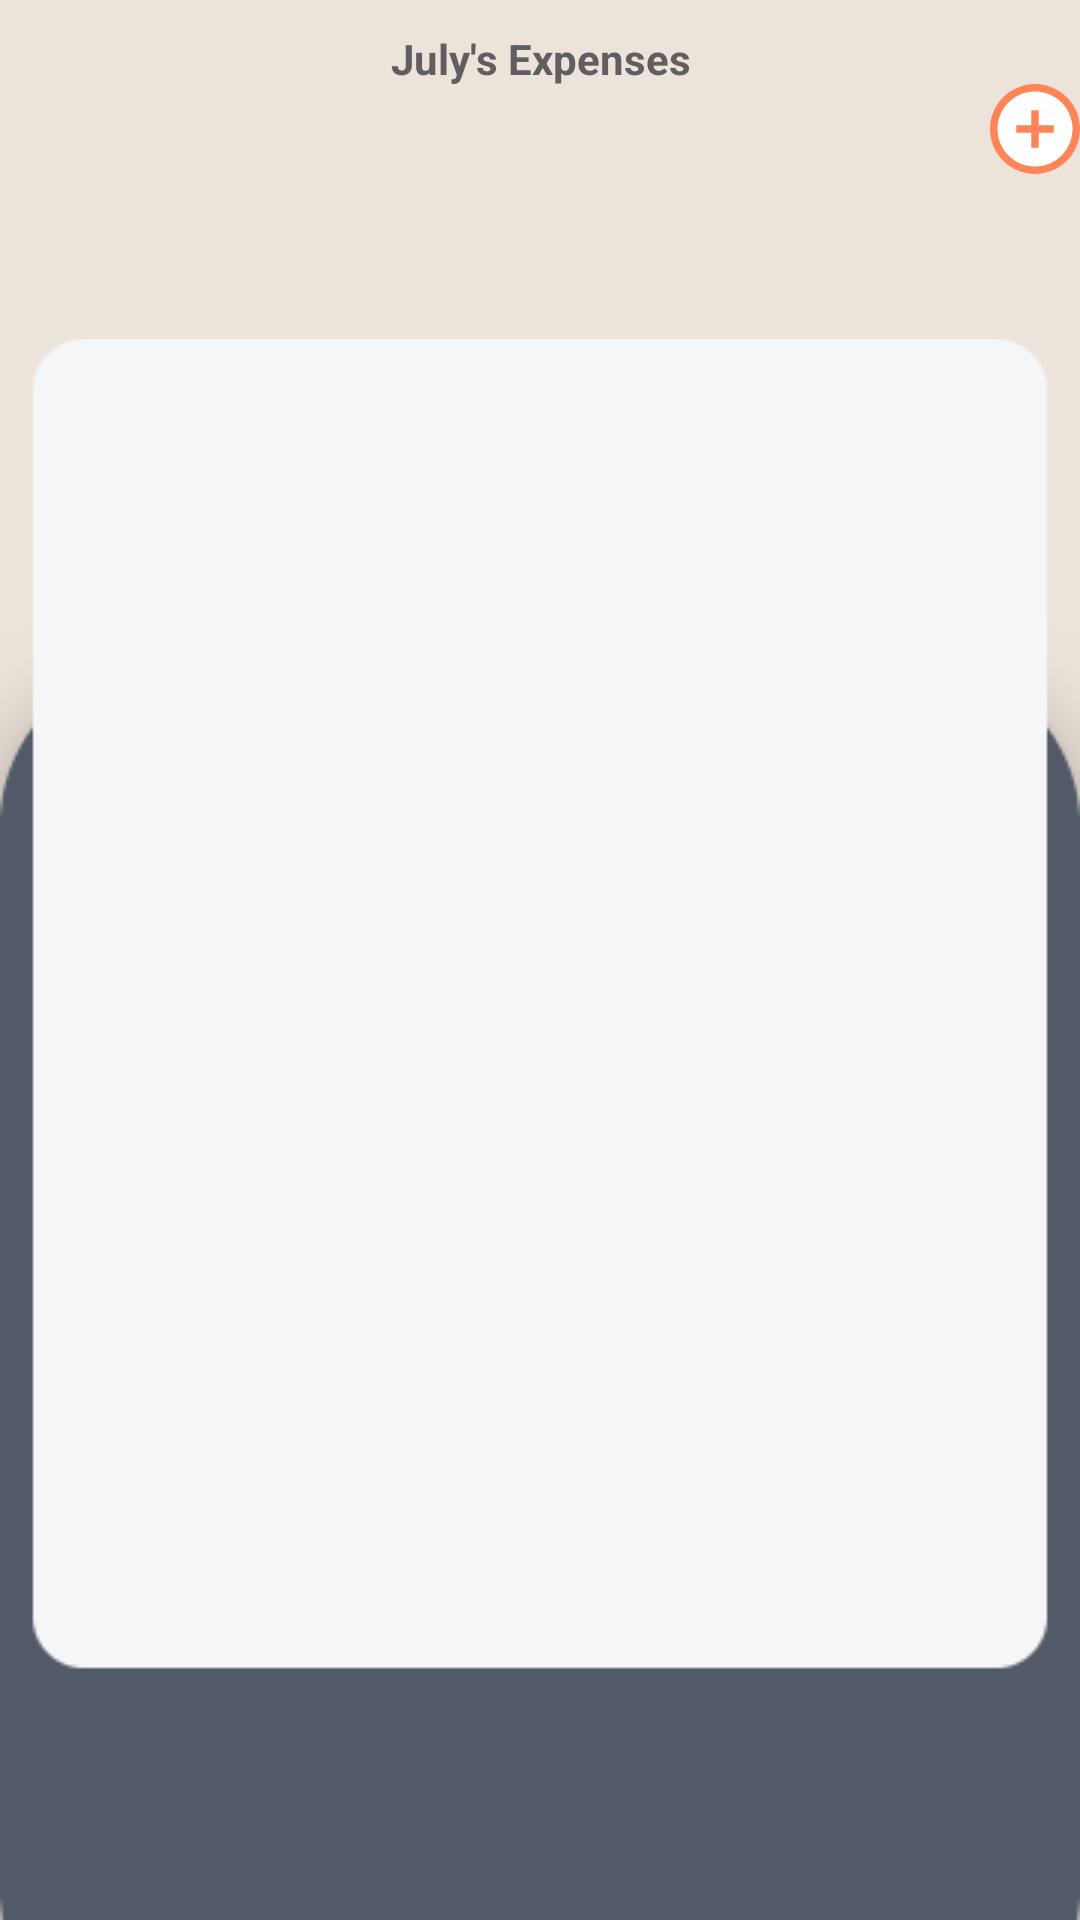

Icon bounding boxes for this 1080 × 1920 phone screenshot, format (x1, y1, x2, y2):
add: (990, 84, 1080, 174)
